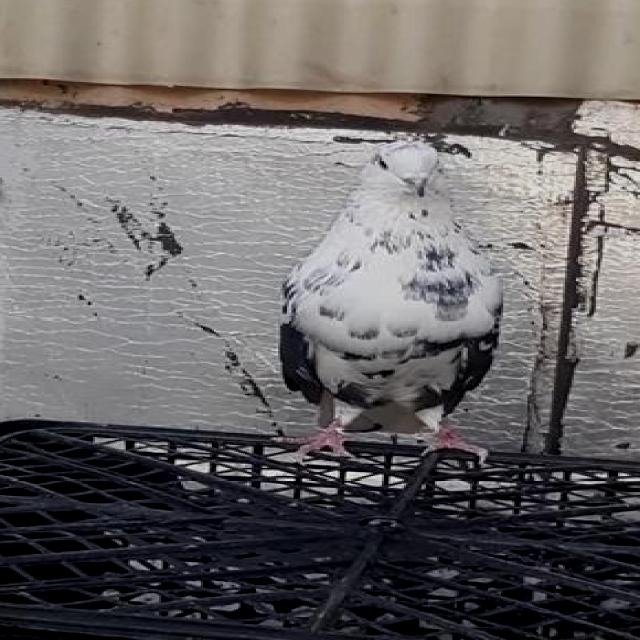bird: (260, 133, 508, 466)
